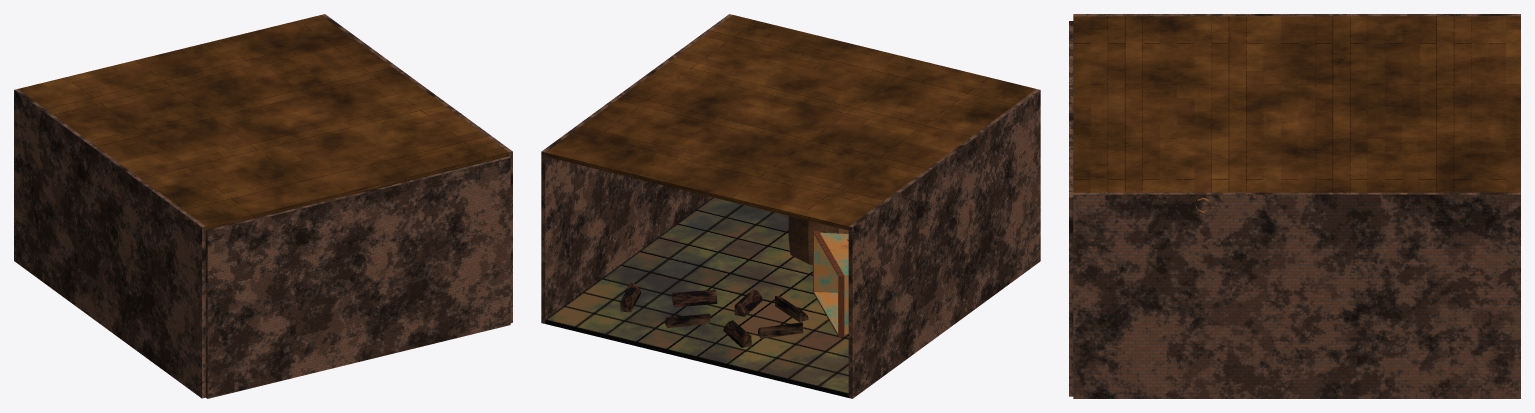
The model's file is GeneratorRoom1_3.fbx.
3 views of the same model, side by side, from view 1: azimuth 30°, elevation 25°; view 2: azimuth 150°, elevation 25°; view 3: azimuth 270°, elevation 25° (orthographic). The views are drawn at different scales.
Visible parts, largest first — view 1: DirtyCeiling, SideWall1.006, SideWall1.005, SideWall1.001; view 2: DirtyCeiling, SideWall1.005, DirtyGround, SideWall1.001, Minecart.002, Generator, CharredWood.007, CharredWood.002, CharredWood.005, CharredWood.001, CharredWood.003; view 3: SideWall1.001, DirtyCeiling, SideWall1.006, SideWall1.005.
Part boxes in pixels (x1,y1,x2,y2): DirtyCeiling: [18, 15, 508, 230]; SideWall1.006: [205, 156, 510, 398]; SideWall1.005: [14, 89, 205, 398]; SideWall1.001: [322, 14, 512, 322]; DirtyCeiling: [545, 15, 1036, 230]; SideWall1.005: [848, 89, 1040, 398]; DirtyGround: [545, 197, 848, 397]; SideWall1.001: [541, 14, 732, 323]; Minecart.002: [813, 230, 848, 337]; Generator: [788, 216, 848, 265]; CharredWood.007: [672, 289, 717, 307]; CharredWood.002: [758, 322, 803, 338]; CharredWood.005: [665, 314, 710, 327]; CharredWood.001: [734, 289, 762, 316]; CharredWood.003: [723, 320, 751, 347]; SideWall1.001: [1073, 192, 1520, 398]; DirtyCeiling: [1073, 16, 1520, 192]; SideWall1.006: [1069, 21, 1073, 396]; SideWall1.005: [1073, 14, 1520, 16].
Size of the model in its own units: 521 by 272 by 546.
